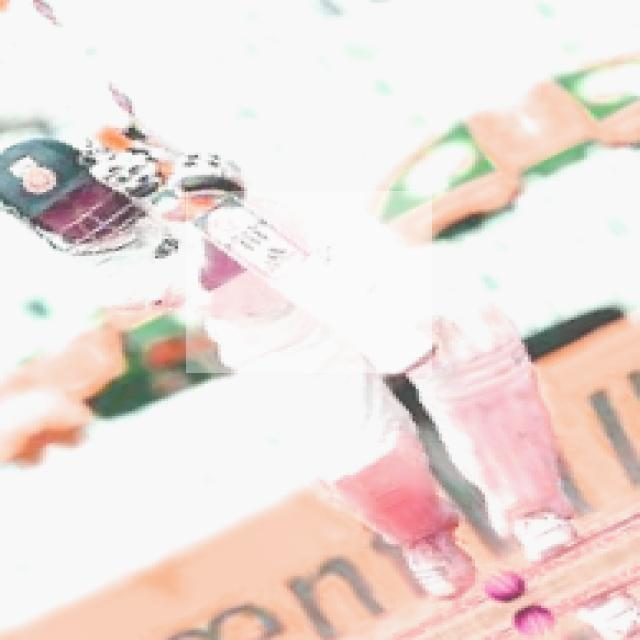bat: (177, 191, 453, 386)
toe: (400, 333, 434, 394)
